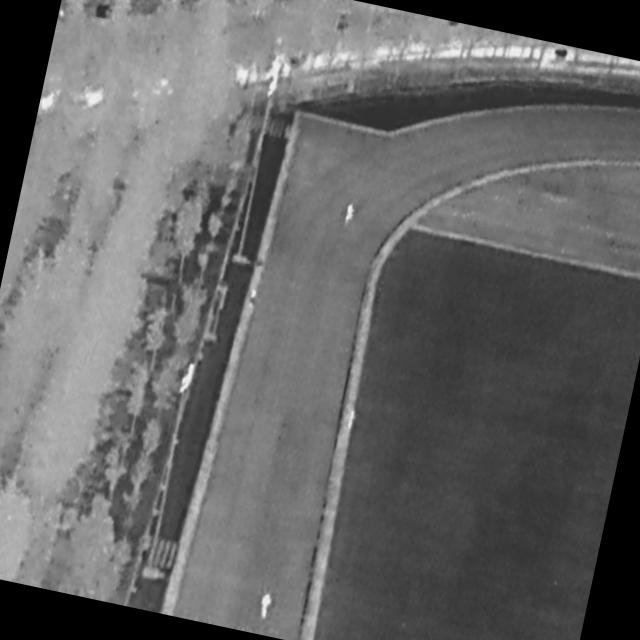person: (258, 593, 274, 622), (346, 409, 358, 431), (247, 289, 258, 310), (344, 203, 355, 223)
